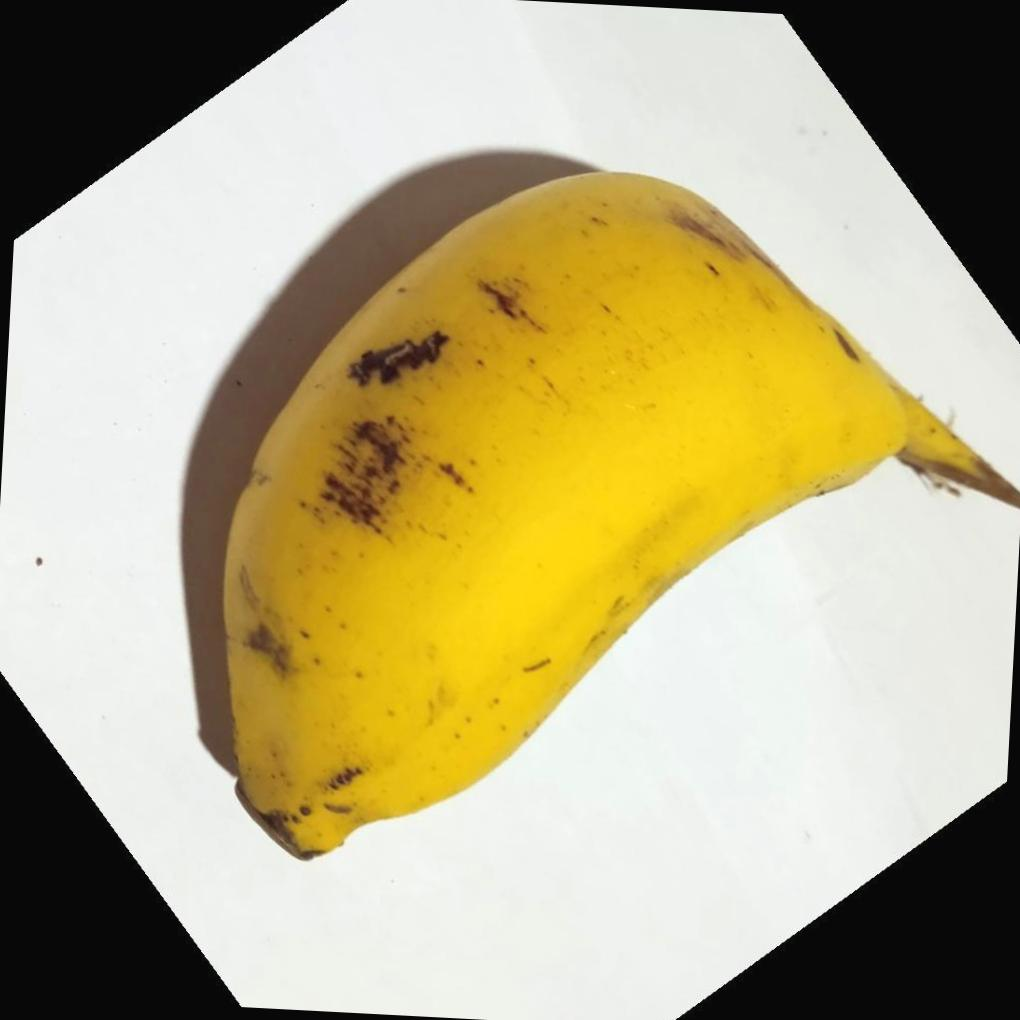Banana Ripe: (189, 141, 1020, 877)
